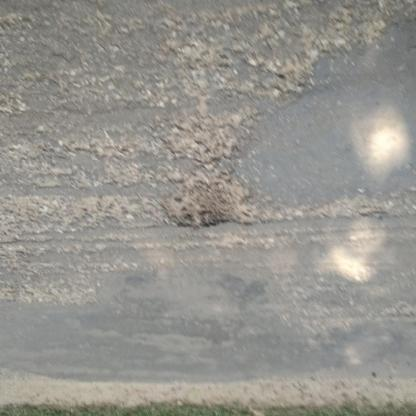pothole: (163, 171, 259, 234)
